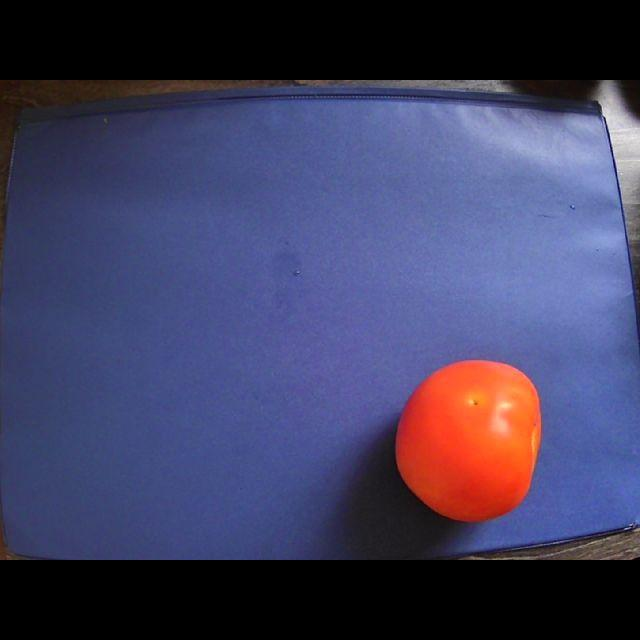tomate: (396, 360, 540, 520)
